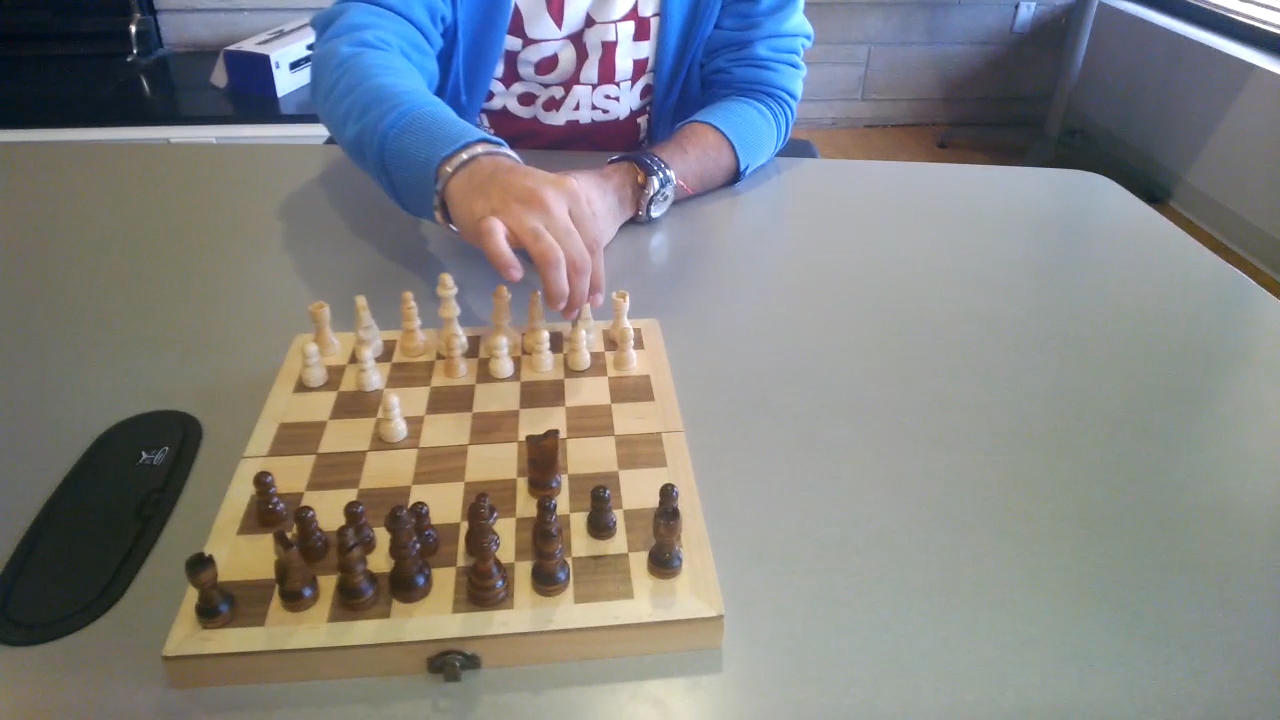hand: (444, 152, 599, 311)
